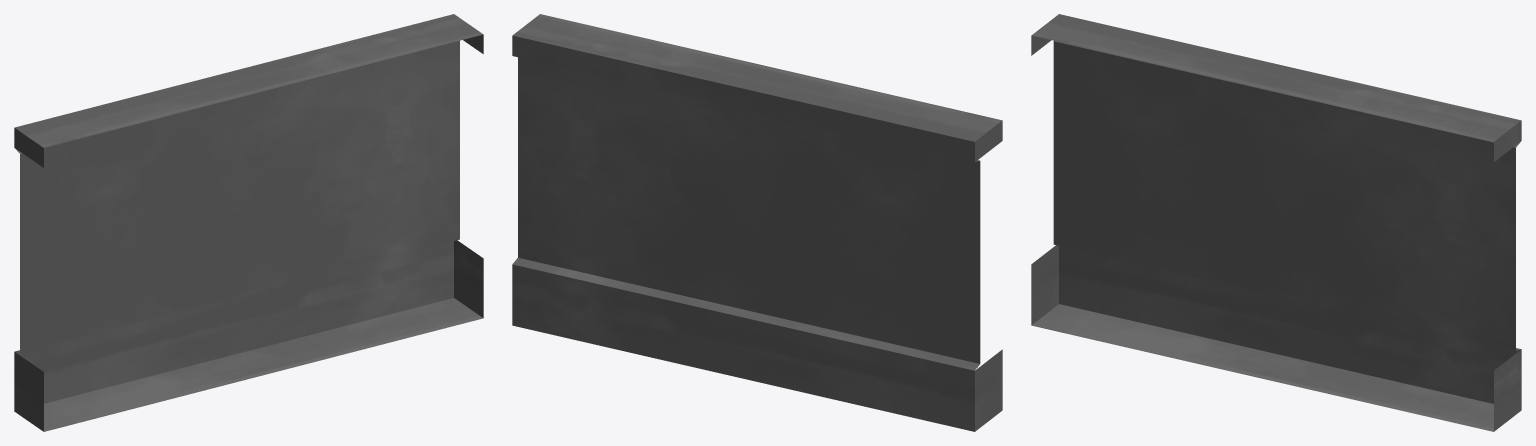
File: WallSlots.fbx
The picture shows the model from 3 angles, left to right: view 1: azimuth 30°, elevation 25°; view 2: azimuth 150°, elevation 25°; view 3: azimuth 330°, elevation 25°; orthographic projection. The views are drawn at different scales.
Parts seen in each view (by area): view 1: wallSlots1; view 2: wallSlots1; view 3: wallSlots1.
Part boxes in pixels (box(x1,y1,x2,y2)): wallSlots1: box(14, 14, 483, 431); wallSlots1: box(512, 14, 1002, 431); wallSlots1: box(1031, 14, 1521, 431).
Bounding box in the file's own units: 21.72 × 13.17 × 2.93.
